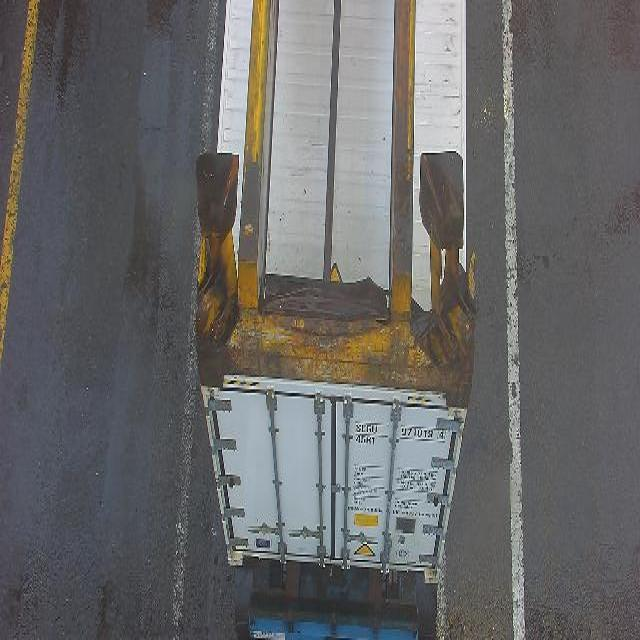ISO: (356, 434, 376, 449)
container_number: (356, 420, 446, 442)
